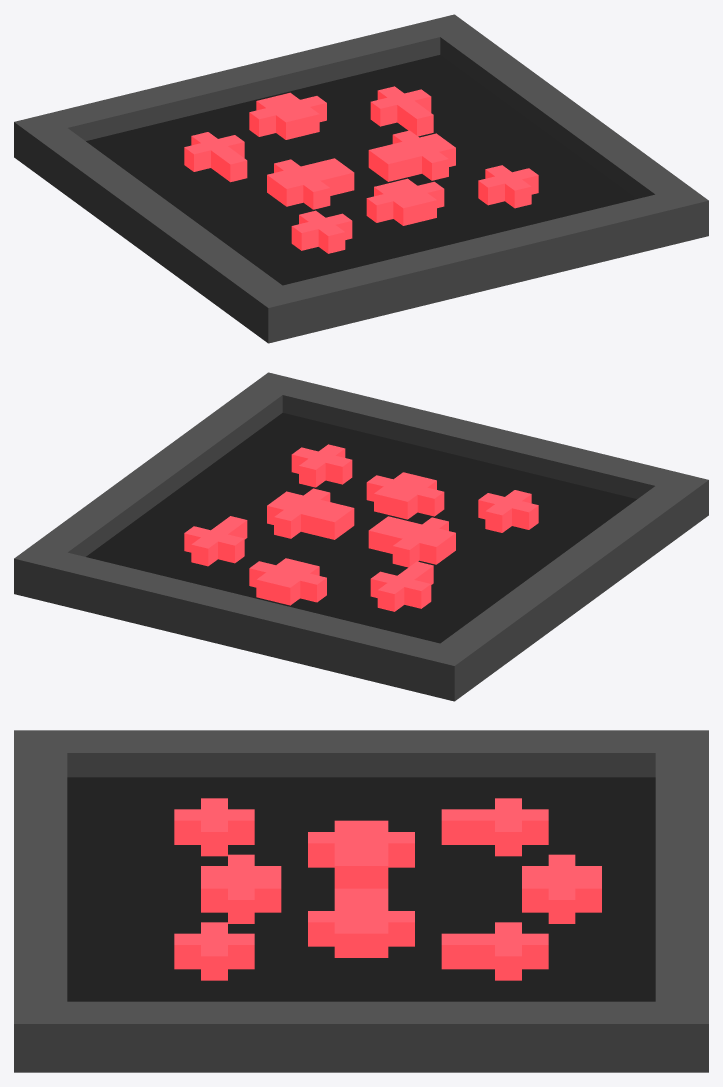
File: trap_STARS_RED.glb
The picture shows the model from 3 angles, top to bottom: view 1: azimuth 30°, elevation 25°; view 2: azimuth 150°, elevation 25°; view 3: azimuth 270°, elevation 25°; orthographic projection. The views are drawn at different scales.
Visible parts, largest first — view 1: item_TRAP_STARS_RED; view 2: item_TRAP_STARS_RED; view 3: item_TRAP_STARS_RED.
Boxes of the visible parts, box(x1,y1,x2,y2) form: item_TRAP_STARS_RED: box(14, 14, 708, 343); item_TRAP_STARS_RED: box(14, 372, 708, 701); item_TRAP_STARS_RED: box(14, 730, 708, 1072).
Size of the model in its own units: 0.5909 by 0.0455 by 0.5909.
1 material, 1 textured.
